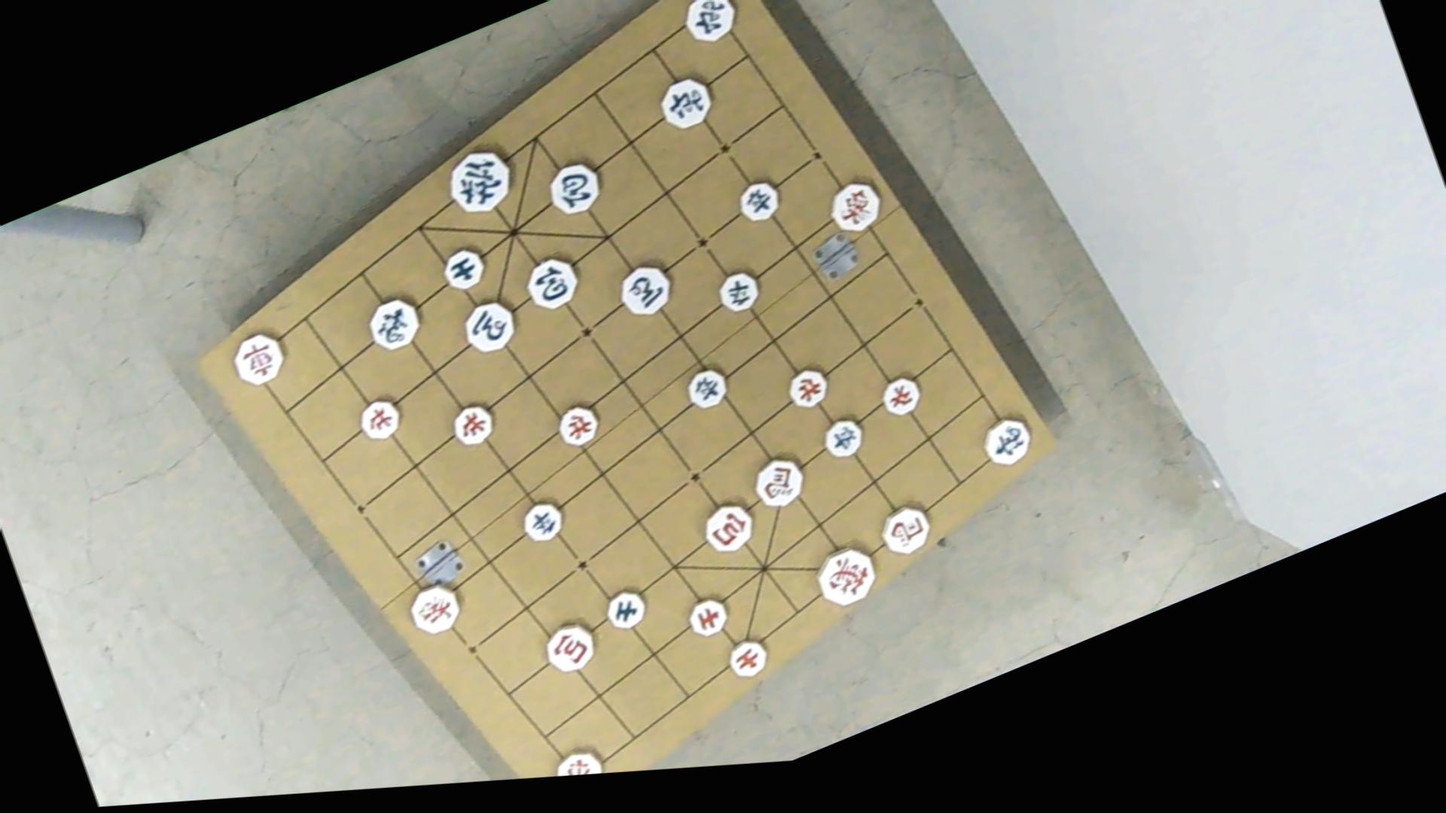cha_green: (657, 71, 719, 135), (677, 0, 742, 50)
cha_red: (226, 327, 287, 391), (552, 742, 611, 776)
jol_green: (517, 493, 569, 545), (714, 266, 766, 318), (735, 175, 785, 227), (680, 365, 730, 416), (819, 414, 868, 464)
jol_red: (450, 396, 502, 449), (554, 397, 605, 450), (785, 360, 834, 412), (358, 394, 407, 445), (877, 371, 924, 420)
ma_green: (614, 257, 679, 324), (459, 294, 520, 358)
ma_red: (749, 451, 810, 514), (875, 500, 933, 561)
po_green: (546, 154, 607, 220), (522, 250, 583, 315)
po_red: (540, 616, 600, 678), (699, 498, 759, 559)
sa_green: (440, 245, 489, 297), (602, 586, 648, 634)
sa_red: (725, 633, 774, 683), (684, 593, 731, 641)
sang_green: (363, 291, 426, 357), (978, 409, 1038, 470)
sang_red: (824, 172, 889, 239), (407, 576, 466, 638)
wang_green: (444, 142, 518, 222)
wang_red: (814, 540, 884, 614)
